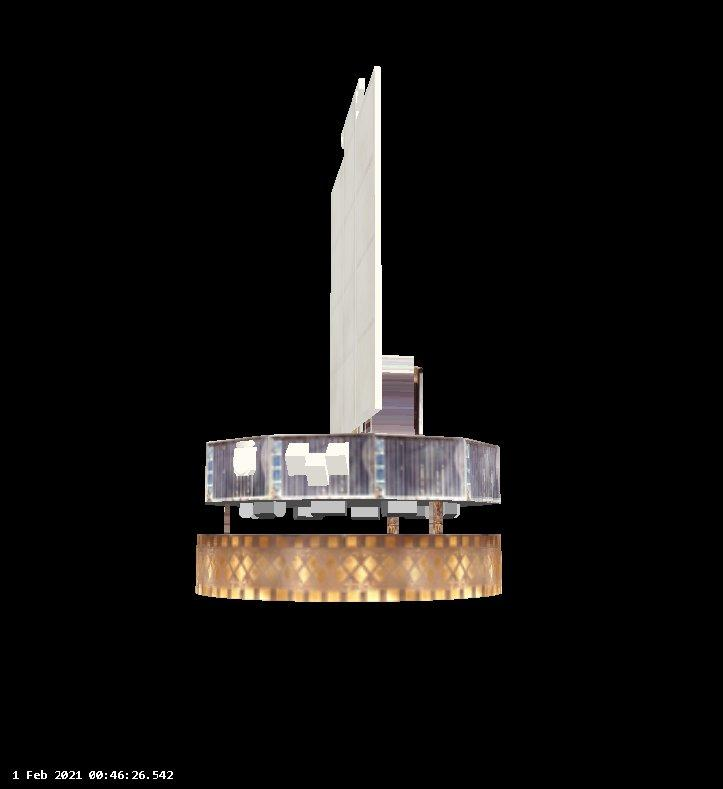body: (191, 430, 508, 605)
solar: (325, 59, 384, 433)
